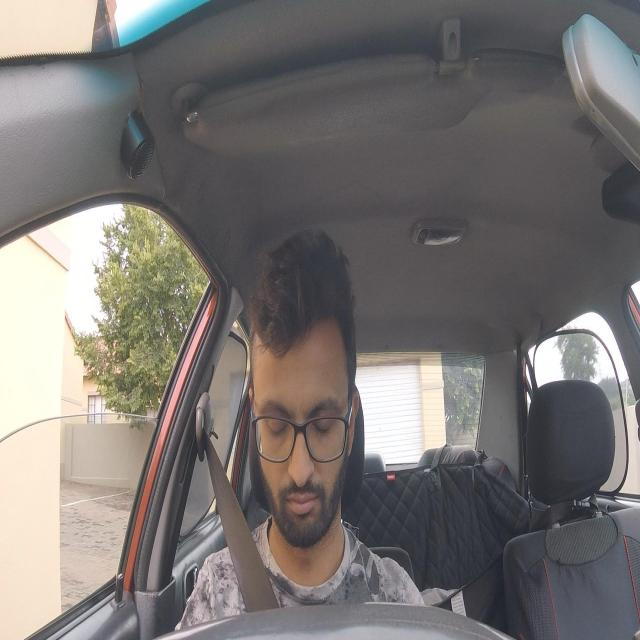close: (306, 386, 343, 441), (257, 395, 289, 439)
